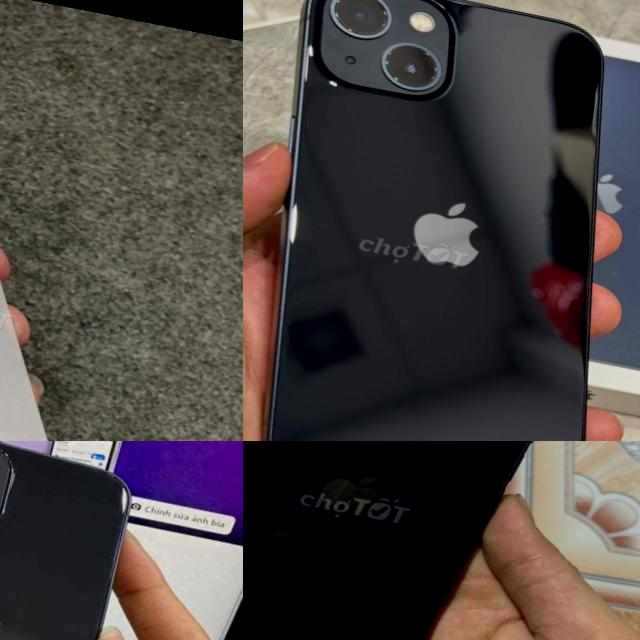gen_12_13: (243, 0, 640, 441), (0, 0, 160, 441), (243, 441, 572, 640), (0, 441, 142, 640)
